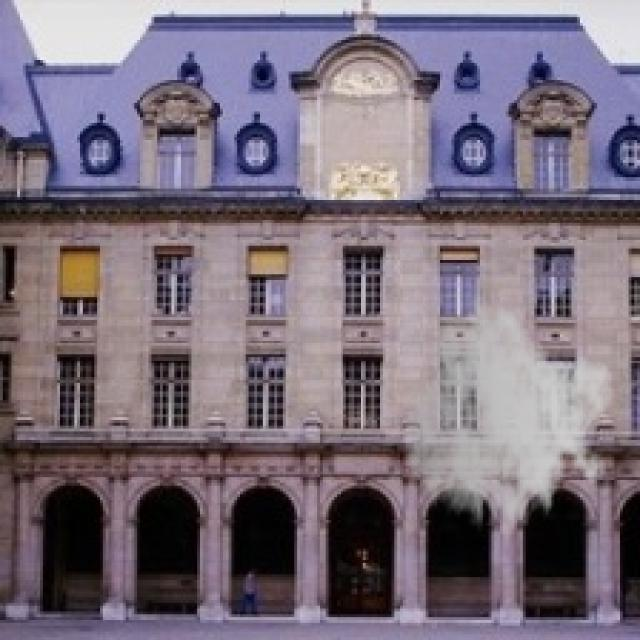Smoke: (403, 294, 614, 557)
